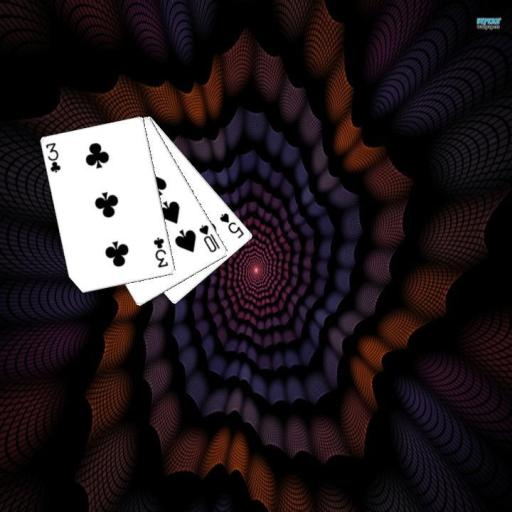10S: (196, 222, 222, 254)
3C: (43, 140, 63, 175), (151, 234, 170, 269)
5S: (217, 210, 246, 240)
